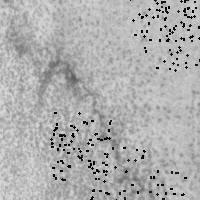pitted_surface: (72, 4, 177, 196), (50, 121, 109, 179), (53, 112, 110, 172), (84, 144, 143, 200), (129, 0, 187, 50), (156, 10, 200, 69), (146, 0, 200, 40), (127, 170, 185, 200)
